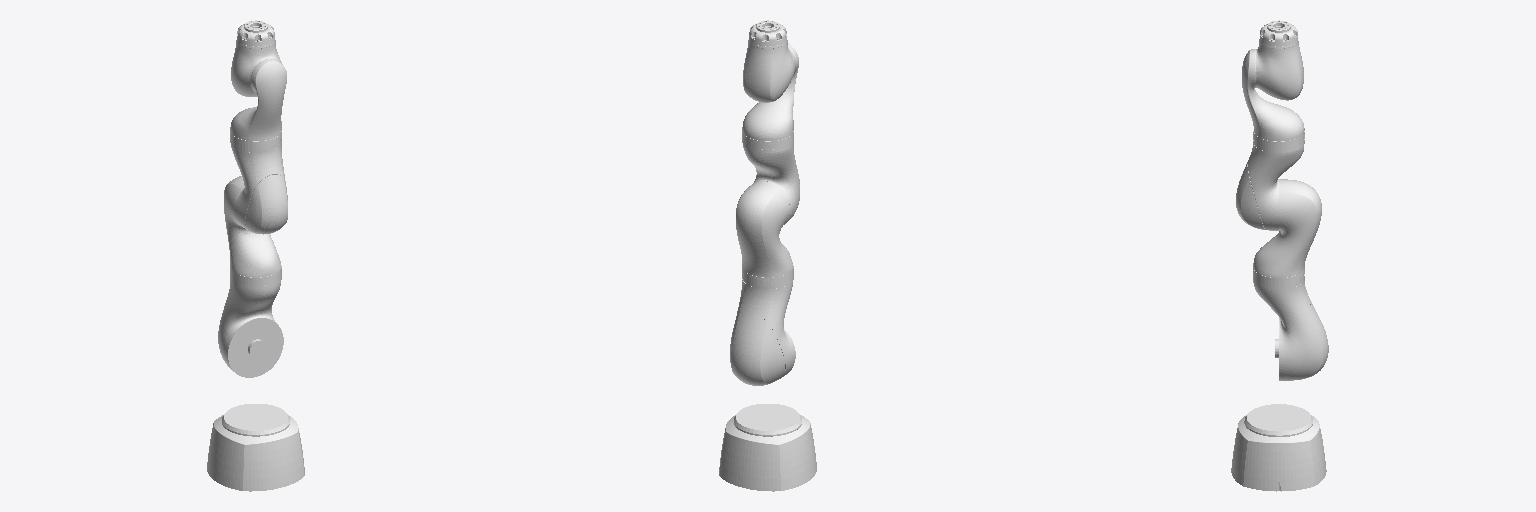
URDF robot description (lbrMed_withBaseLink_FramesBase.sldasm):
<?xml version="1.0" encoding="utf-8"?>
<!-- This URDF was automatically created by SolidWorks to URDF Exporter! Originally created by [author] ([email redacted]) 
     Commit Version: 1.5.1-0-g916b5db  Build Version: 1.5.7152.31018
     For more information, please see http://wiki.ros.org/sw_urdf_exporter -->
<robot
  name="lbrMed_withBaseLink_FramesBase.sldasm">
  <link
    name="ROBERT_platform">
    <inertial>
      <origin
        xyz="0.27949 -6.431E-05 -0.38981"
        rpy="0 0 0" />
      <mass
        value="19.445" />
      <inertia
        ixx="0.6661"
        ixy="-0.00060605"
        ixz="0.023686"
        iyy="0.4732"
        iyz="0.00010259"
        izz="0.67677" />
    </inertial>
    <visual>
      <origin
        xyz="0 0 0"
        rpy="0 0 0" />
      <geometry>
        <mesh
          filename="package://lbrMed_withBaseLink_FramesBase.sldasm/meshes/ROBERT_platform.STL" />
      </geometry>
      <material
        name="">
        <color
          rgba="0.7 0.7 0.7 1" />
      </material>
    </visual>
    <collision>
      <origin
        xyz="0 0 0"
        rpy="0 0 0" />
      <geometry>
        <mesh
          filename="package://lbrMed_withBaseLink_FramesBase.sldasm/meshes/ROBERT_platform.STL" />
      </geometry>
    </collision>
  </link>
  <link
    name="ROBERT_base">
    <inertial>
      <origin
        xyz="0.041359 4.9507E-08 0.99543"
        rpy="0 0 0" />
      <mass
        value="6.0056" />
      <inertia
        ixx="0.036487"
        ixy="2.0024E-08"
        ixz="0.0057256"
        iyy="0.033522"
        iyz="-2.2832E-08"
        izz="0.041893" />
    </inertial>
    <visual>
      <origin
        xyz="0 0 0"
        rpy="0 0 0" />
      <geometry>
        <mesh
          filename="package://lbrMed_withBaseLink_FramesBase.sldasm/meshes/ROBERT_base.STL" />
      </geometry>
      <material
        name="">
        <color
          rgba="0.95 0.95 0.95 1" />
      </material>
    </visual>
    <collision>
      <origin
        xyz="0 0 0"
        rpy="0 0 0" />
      <geometry>
        <mesh
          filename="package://lbrMed_withBaseLink_FramesBase.sldasm/meshes/ROBERT_base.STL" />
      </geometry>
    </collision>
  </link>
  <joint
    name="ROBERT_base_fixed"
    type="fixed">
    <origin
      xyz="0.53522 0 -0.76138"
      rpy="0 -0.61087 0" />
    <parent
      link="ROBERT_platform" />
    <child
      link="ROBERT_base" />
    <axis
      xyz="0 0 0" />
    <limit
      lower="-2.967"
      upper="2.967"
      effort="350"
      velocity="3" />
  </joint>
  <link
    name="ROBERT_shoulder">
    <inertial>
      <origin
        xyz="-1.0921E-06 -0.033794 0.1277"
        rpy="0 0 0" />
      <mass
        value="4.1086" />
      <inertia
        ixx="0.032982"
        ixy="4.1814E-08"
        ixz="3.7416E-07"
        iyy="0.033274"
        iyz="0.0049257"
        izz="0.012326" />
    </inertial>
    <visual>
      <origin
        xyz="0 0 0"
        rpy="0 0 0" />
      <geometry>
        <mesh
          filename="package://lbrMed_withBaseLink_FramesBase.sldasm/meshes/ROBERT_shoulder.STL" />
      </geometry>
      <material
        name="">
        <color
          rgba="0.95 0.95 0.95 1" />
      </material>
    </visual>
    <collision>
      <origin
        xyz="0 0 0"
        rpy="0 0 0" />
      <geometry>
        <mesh
          filename="package://lbrMed_withBaseLink_FramesBase.sldasm/meshes/ROBERT_shoulder.STL" />
      </geometry>
    </collision>
  </link>
  <joint
    name="ROBERT_joint1"
    type="revolute">
    <origin
      xyz="0.085578 0 1.0553"
      rpy="0 0.61087 0" />
    <parent
      link="ROBERT_base" />
    <child
      link="ROBERT_shoulder" />
    <axis
      xyz="0 0 -1" />
    <limit
      lower="-2.967"
      upper="2.967"
      effort="350"
      velocity="3" />
  </joint>
  <link
    name="ROBERT_lowerArm">
    <inertial>
      <origin
        xyz="0.00013064 -0.07633 0.037544"
        rpy="0 0 0" />
      <mass
        value="4.4185" />
      <inertia
        ixx="0.04286"
        ixy="-4.2906E-05"
        ixz="-2.4964E-05"
        iyy="0.012833"
        iyz="-0.0077921"
        izz="0.041927" />
    </inertial>
    <visual>
      <origin
        xyz="0 0 0"
        rpy="0 0 0" />
      <geometry>
        <mesh
          filename="package://lbrMed_withBaseLink_FramesBase.sldasm/meshes/ROBERT_lowerArm.STL" />
      </geometry>
      <material
        name="">
        <color
          rgba="0.95 0.95 0.95 1" />
      </material>
    </visual>
    <collision>
      <origin
        xyz="0 0 0"
        rpy="0 0 0" />
      <geometry>
        <mesh
          filename="package://lbrMed_withBaseLink_FramesBase.sldasm/meshes/ROBERT_lowerArm.STL" />
      </geometry>
    </collision>
  </link>
  <joint
    name="ROBERT_joint2"
    type="revolute">
    <origin
      xyz="0 0 0.2078"
      rpy="-1.5708 0 0" />
    <parent
      link="ROBERT_shoulder" />
    <child
      link="ROBERT_lowerArm" />
    <axis
      xyz="0 0 -1" />
    <limit
      lower="-2.0943"
      upper="2.0943"
      effort="350"
      velocity="3" />
  </joint>
  <link
    name="ROBERT_elbow">
    <inertial>
      <origin
        xyz="1.8351E-06 0.034909 0.11381"
        rpy="0 0 0" />
      <mass
        value="2.6884" />
      <inertia
        ixx="0.016871"
        ixy="9.3037E-08"
        ixz="-1.4954E-07"
        iyy="0.016102"
        iyz="-0.0029863"
        izz="0.005981" />
    </inertial>
    <visual>
      <origin
        xyz="0 0 0"
        rpy="0 0 0" />
      <geometry>
        <mesh
          filename="package://lbrMed_withBaseLink_FramesBase.sldasm/meshes/ROBERT_elbow.STL" />
      </geometry>
      <material
        name="">
        <color
          rgba="0.95 0.95 0.95 1" />
      </material>
    </visual>
    <collision>
      <origin
        xyz="0 0 0"
        rpy="0 0 0" />
      <geometry>
        <mesh
          filename="package://lbrMed_withBaseLink_FramesBase.sldasm/meshes/ROBERT_elbow.STL" />
      </geometry>
    </collision>
  </link>
  <joint
    name="ROBERT_joint3"
    type="revolute">
    <origin
      xyz="0 -0.2373 0"
      rpy="1.5708 0 0" />
    <parent
      link="ROBERT_lowerArm" />
    <child
      link="ROBERT_elbow" />
    <axis
      xyz="0 0 -1" />
    <limit
      lower="-2.967"
      upper="2.967"
      effort="350"
      velocity="10" />
  </joint>
  <link
    name="ROBERT_upperArm">
    <inertial>
      <origin
        xyz="-7.4067E-08 0.086942 0.02979"
        rpy="0 0 0" />
      <mass
        value="3.2026" />
      <inertia
        ixx="0.025176"
        ixy="-7.0603E-09"
        ixz="2.0819E-07"
        iyy="0.0076769"
        iyz="0.004677"
        izz="0.023892" />
    </inertial>
    <visual>
      <origin
        xyz="0 0 0"
        rpy="0 0 0" />
      <geometry>
        <mesh
          filename="package://lbrMed_withBaseLink_FramesBase.sldasm/meshes/ROBERT_upperArm.STL" />
      </geometry>
      <material
        name="">
        <color
          rgba="0.95 0.95 0.95 1" />
      </material>
    </visual>
    <collision>
      <origin
        xyz="0 0 0"
        rpy="0 0 0" />
      <geometry>
        <mesh
          filename="package://lbrMed_withBaseLink_FramesBase.sldasm/meshes/ROBERT_upperArm.STL" />
      </geometry>
    </collision>
  </link>
  <joint
    name="ROBERT_joint4"
    type="revolute">
    <origin
      xyz="0 0.0005 0.1827"
      rpy="1.5708 0 0" />
    <parent
      link="ROBERT_elbow" />
    <child
      link="ROBERT_upperArm" />
    <axis
      xyz="0 0 -1" />
    <limit
      lower="-2.0943"
      upper="2.0943"
      effort="350"
      velocity="10" />
  </joint>
  <link
    name="ROBERT_wrist1">
    <inertial>
      <origin
        xyz="9.5301E-07 -0.029822 0.066966"
        rpy="0 0 0" />
      <mass
        value="1.2146" />
      <inertia
        ixx="0.0067395"
        ixy="2.5624E-08"
        ixz="8.1717E-09"
        iyy="0.0056681"
        iyz="0.0022283"
        izz="0.0030564" />
    </inertial>
    <visual>
      <origin
        xyz="0 0 0"
        rpy="0 0 0" />
      <geometry>
        <mesh
          filename="package://lbrMed_withBaseLink_FramesBase.sldasm/meshes/ROBERT_wrist1.STL" />
      </geometry>
      <material
        name="">
        <color
          rgba="0.95 0.95 0.95 1" />
      </material>
    </visual>
    <collision>
      <origin
        xyz="0 0 0"
        rpy="0 0 0" />
      <geometry>
        <mesh
          filename="package://lbrMed_withBaseLink_FramesBase.sldasm/meshes/ROBERT_wrist1.STL" />
      </geometry>
    </collision>
  </link>
  <joint
    name="ROBERT_joint5"
    type="revolute">
    <origin
      xyz="0 0.2168 0.0005"
      rpy="-1.5708 0 0" />
    <parent
      link="ROBERT_upperArm" />
    <child
      link="ROBERT_wrist1" />
    <axis
      xyz="0 0 -1" />
    <limit
      lower="-2.967"
      upper="2.967"
      effort="350"
      velocity="10" />
  </joint>
  <link
    name="ROBERT_wrist2">
    <inertial>
      <origin
        xyz="1.7505E-06 -0.0049557 0.061029"
        rpy="0 0 0" />
      <mass
        value="1.9087" />
      <inertia
        ixx="0.0056122"
        ixy="-3.928E-08"
        ixz="4.0496E-07"
        iyy="0.0036753"
        iyz="-0.00024707"
        izz="0.0054041" />
    </inertial>
    <visual>
      <origin
        xyz="0 0 0"
        rpy="0 0 0" />
      <geometry>
        <mesh
          filename="package://lbrMed_withBaseLink_FramesBase.sldasm/meshes/ROBERT_wrist2.STL" />
      </geometry>
      <material
        name="">
        <color
          rgba="0.95 0.95 0.95 1" />
      </material>
    </visual>
    <collision>
      <origin
        xyz="0 0 0"
        rpy="0 0 0" />
      <geometry>
        <mesh
          filename="package://lbrMed_withBaseLink_FramesBase.sldasm/meshes/ROBERT_wrist2.STL" />
      </geometry>
    </collision>
  </link>
  <joint
    name="ROBERT_joint6"
    type="revolute">
    <origin
      xyz="0 -0.0607 0.1832"
      rpy="-1.5708 0 0" />
    <parent
      link="ROBERT_wrist1" />
    <child
      link="ROBERT_wrist2" />
    <axis
      xyz="0 0 -1" />
    <limit
      lower="-2.0943"
      upper="2.0943"
      effort="350"
      velocity="10" />
  </joint>
  <link
    name="ROBERT_wrist3">
    <inertial>
      <origin
        xyz="-3.0531E-05 -2.9893E-05 0.013782"
        rpy="0 0 0" />
      <mass
        value="0.20609" />
      <inertia
        ixx="0.00013586"
        ixy="1.4059E-08"
        ixz="-6.6731E-09"
        iyy="0.00013585"
        iyz="2.2202E-09"
        izz="0.00023745" />
    </inertial>
    <visual>
      <origin
        xyz="0 0 0"
        rpy="0 0 0" />
      <geometry>
        <mesh
          filename="package://lbrMed_withBaseLink_FramesBase.sldasm/meshes/ROBERT_wrist3.STL" />
      </geometry>
      <material
        name="">
        <color
          rgba="0.95 0.95 0.95 1" />
      </material>
    </visual>
    <collision>
      <origin
        xyz="0 0 0"
        rpy="0 0 0" />
      <geometry>
        <mesh
          filename="package://lbrMed_withBaseLink_FramesBase.sldasm/meshes/ROBERT_wrist3.STL" />
      </geometry>
    </collision>
  </link>
  <joint
    name="ROBERT_joint7"
    type="revolute">
    <origin
      xyz="3.3739E-05 -0.091 0.060728"
      rpy="1.5708 0 0" />
    <parent
      link="ROBERT_wrist2" />
    <child
      link="ROBERT_wrist3" />
    <axis
      xyz="0 0 -1" />
    <limit
      lower="-3.05"
      upper="3.05"
      effort="350"
      velocity="10" />
  </joint>
  <link
    name="ROBERT_ee">
    <inertial>
      <origin
        xyz="0.0080303 0.072563 -0.0036053"
        rpy="0 0 0" />
      <mass
        value="0.8735" />
      <inertia
        ixx="0.0033013"
        ixy="5.2014E-06"
        ixz="3.714E-05"
        iyy="0.0021933"
        iyz="-9.0259E-05"
        izz="0.0025101" />
    </inertial>
    <visual>
      <origin
        xyz="0 0 0"
        rpy="0 0 0" />
      <geometry>
        <mesh
          filename="package://lbrMed_withBaseLink_FramesBase.sldasm/meshes/ROBERT_ee.STL" />
      </geometry>
      <material
        name="">
        <color
          rgba="0.76 0.765 0.78 1" />
      </material>
    </visual>
    <collision>
      <origin
        xyz="0 0 0"
        rpy="0 0 0" />
      <geometry>
        <mesh
          filename="package://lbrMed_withBaseLink_FramesBase.sldasm/meshes/ROBERT_ee.STL" />
      </geometry>
    </collision>
  </link>
  <joint
    name="ROBERT_tcp"
    type="fixed">
    <origin
      xyz="-3.3739E-05 -2.831E-05 0.12113"
      rpy="0 0 3.1416" />
    <parent
      link="ROBERT_wrist3" />
    <child
      link="ROBERT_ee" />
    <axis
      xyz="0 0 0" />
  </joint>
</robot>

--- Facts derived from the render (not from the file) ---
The picture shows the robot from 3 angles, left to right: view 1: azimuth 30°, elevation 25°; view 2: azimuth 150°, elevation 25°; view 3: azimuth 270°, elevation 25°; orthographic projection.
Model lbrMed_withBaseLink_FramesBase.sldasm with 10 links and 9 joints (7 revolute, 2 fixed), rooted at ROBERT_platform, posed all joints at 0.
Visible links, largest first — view 1: ROBERT_base, ROBERT_lowerArm, ROBERT_upperArm, ROBERT_wrist1, ROBERT_elbow, ROBERT_wrist2, ROBERT_wrist3; view 2: ROBERT_base, ROBERT_lowerArm, ROBERT_elbow, ROBERT_wrist2, ROBERT_upperArm, ROBERT_wrist1, ROBERT_wrist3; view 3: ROBERT_base, ROBERT_lowerArm, ROBERT_elbow, ROBERT_upperArm, ROBERT_wrist1, ROBERT_wrist2, ROBERT_wrist3.
Boxes of the visible links, box(x1,y1,x2,y2) form: ROBERT_base: box(207, 404, 304, 491); ROBERT_lowerArm: box(218, 267, 283, 377); ROBERT_upperArm: box(230, 131, 287, 234); ROBERT_wrist1: box(230, 59, 286, 140); ROBERT_elbow: box(224, 176, 281, 277); ROBERT_wrist2: box(231, 40, 281, 96); ROBERT_wrist3: box(237, 20, 274, 46); ROBERT_base: box(719, 404, 816, 491); ROBERT_lowerArm: box(730, 267, 795, 385); ROBERT_elbow: box(736, 181, 793, 277); ROBERT_wrist2: box(743, 40, 795, 102); ROBERT_upperArm: box(742, 131, 799, 224); ROBERT_wrist1: box(742, 43, 798, 140); ROBERT_wrist3: box(749, 20, 786, 46); ROBERT_base: box(1231, 404, 1326, 491); ROBERT_lowerArm: box(1253, 268, 1328, 380); ROBERT_elbow: box(1253, 179, 1321, 277); ROBERT_upperArm: box(1236, 130, 1304, 230); ROBERT_wrist1: box(1242, 49, 1304, 141); ROBERT_wrist2: box(1256, 39, 1303, 100); ROBERT_wrist3: box(1260, 20, 1297, 46).
Size in the robot's own frame: 0.2527 by 0.2586 by 1.31 metres.
7 mesh visuals loaded from 10 distinct referenced files (7 binary STL); not drawn: 3 (reference not matched to a file when rendering).
